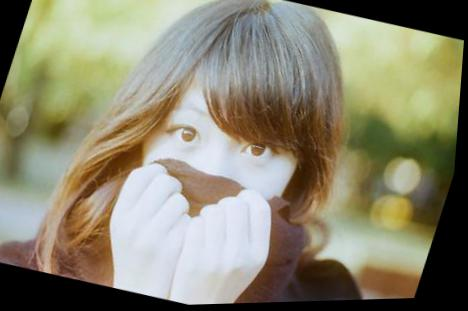WRONG: (131, 83, 323, 268)
